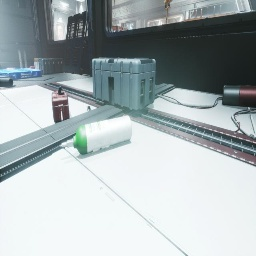0: (60, 115, 132, 155)
FireExtinguisher ]: (4, 68, 17, 70), (28, 66, 35, 69)
FirstAidBox ,: (52, 86, 70, 123)
NitrogenTank ,: (222, 85, 256, 108)
